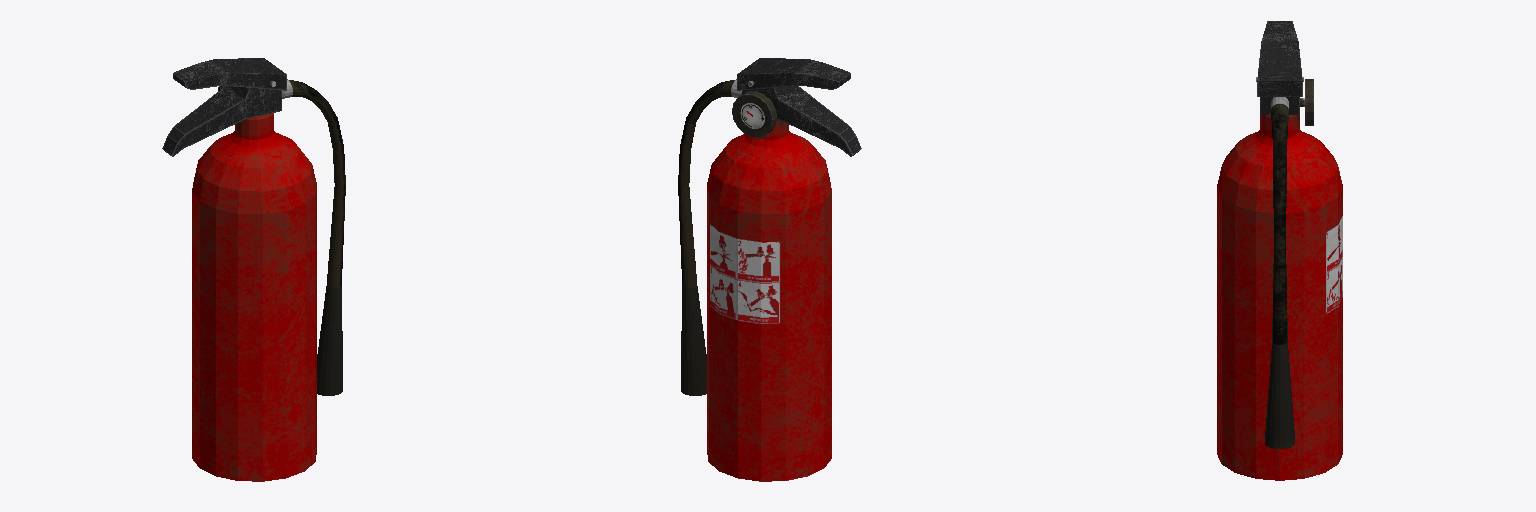
The picture shows the model from 3 angles: view 1: azimuth 30°, elevation 25°; view 2: azimuth 150°, elevation 25°; view 3: azimuth 270°, elevation 25°; orthographic projection.
Parts seen in each view (by area): view 1: extinguisher.001; view 2: extinguisher.001; view 3: extinguisher.001.
Boxes of the visible parts, box(x1,y1,x2,y2) form: extinguisher.001: box(162, 58, 345, 481); extinguisher.001: box(678, 58, 861, 481); extinguisher.001: box(1217, 21, 1342, 480).
Size of the model in its own units: 7.87 by 16.78 by 4.82.
Materials: 1 (1 with a texture image).